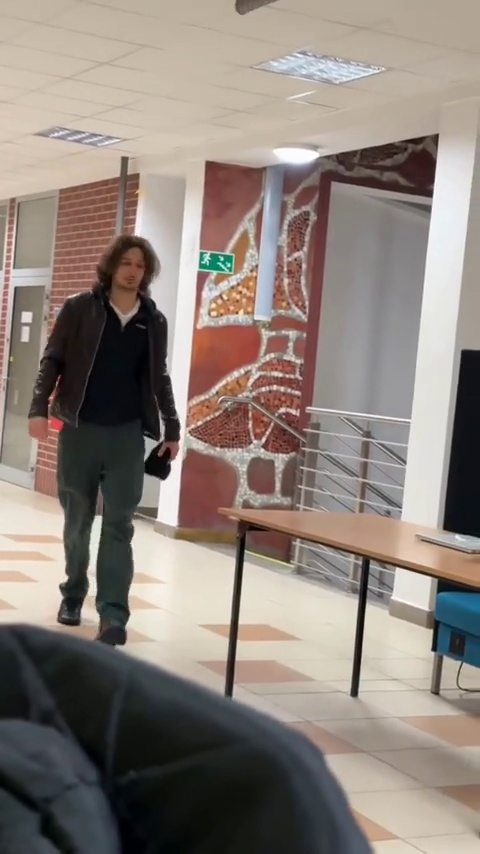no vest: (30, 234, 185, 642)
